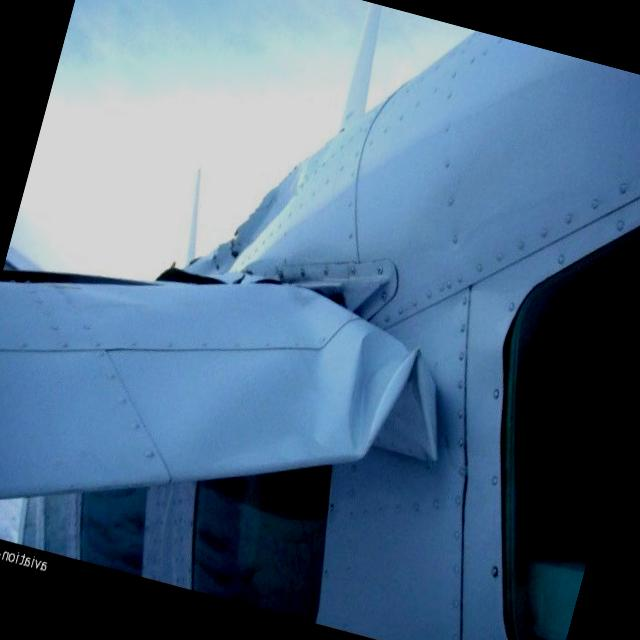dent: (326, 321, 477, 482)
